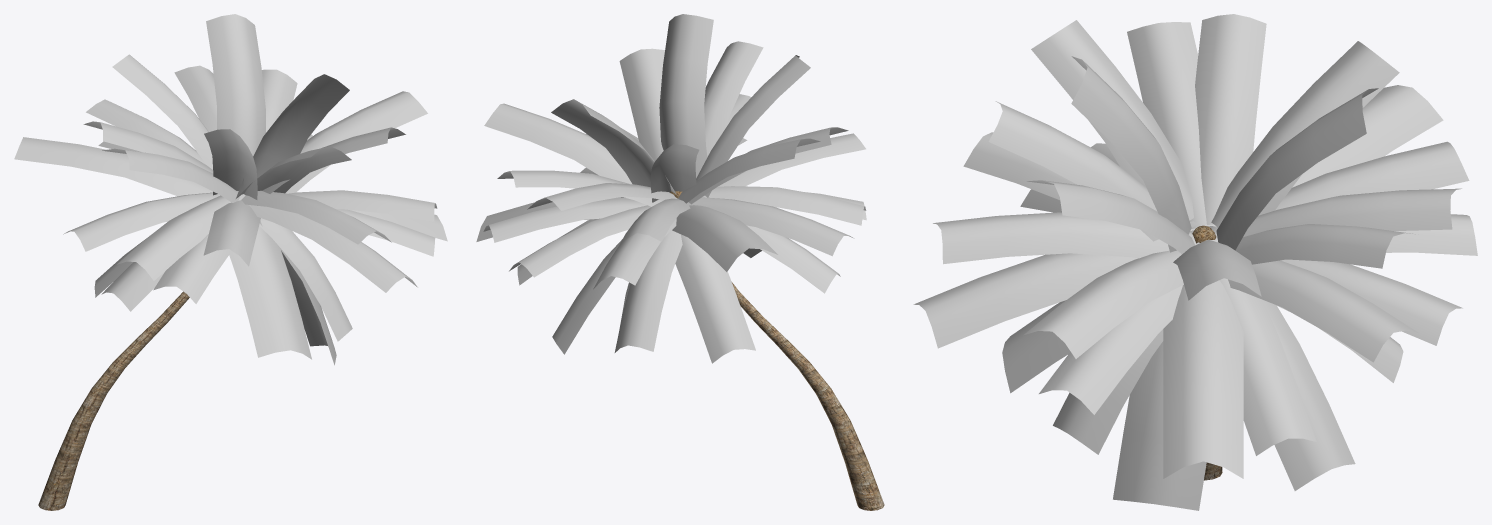
File: palmtree_bent.FBX
3 renders of one model, left to right at view 1: azimuth 30°, elevation 25°; view 2: azimuth 150°, elevation 25°; view 3: azimuth 270°, elevation 25°, orthographic. The views are drawn at different scales.
Parts seen in each view (by area): view 1: palmtree_bent; view 2: palmtree_bent; view 3: palmtree_bent.
Boxes of the visible parts, box(x1,y1,x2,y2) form: palmtree_bent: box(14, 14, 447, 510); palmtree_bent: box(476, 14, 884, 510); palmtree_bent: box(913, 14, 1477, 510).
Size of the model in its own units: 7.25 by 7.08 by 6.46.
